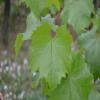grape leaf: (29, 22, 74, 94), (51, 58, 92, 99)
